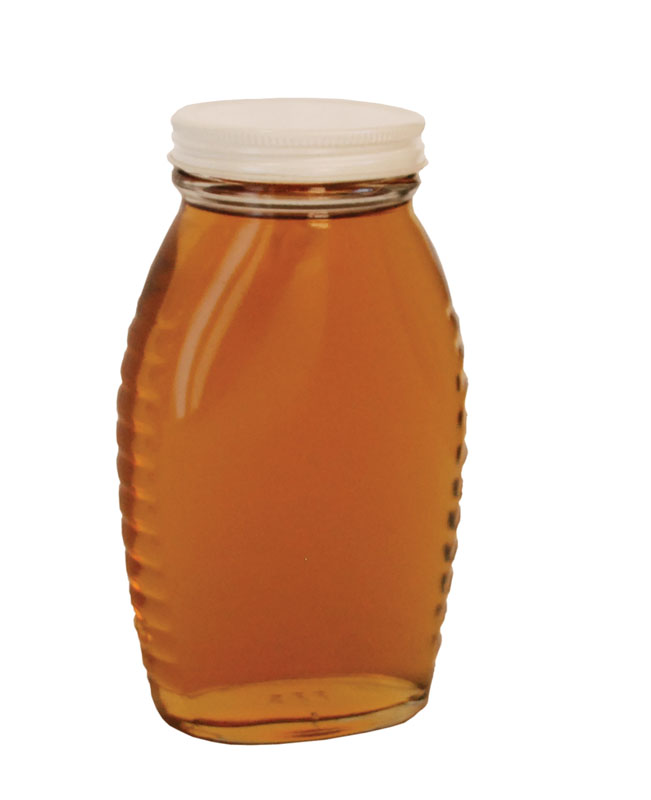Rec_Glass: (114, 81, 470, 758)
